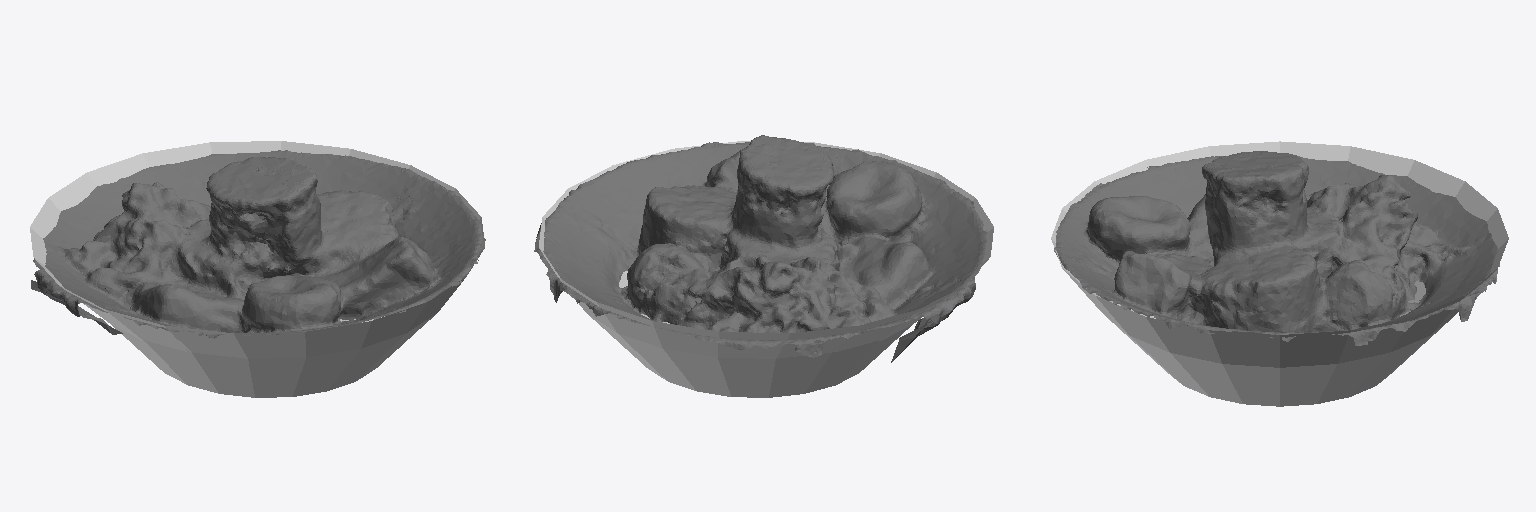
Rendered from daikon.obj.
3 renders of one model, left to right at view 1: azimuth 30°, elevation 25°; view 2: azimuth 150°, elevation 25°; view 3: azimuth 270°, elevation 25°, orthographic.
Bounding box in the file's own units: 85.91 × 38.89 × 85.24.